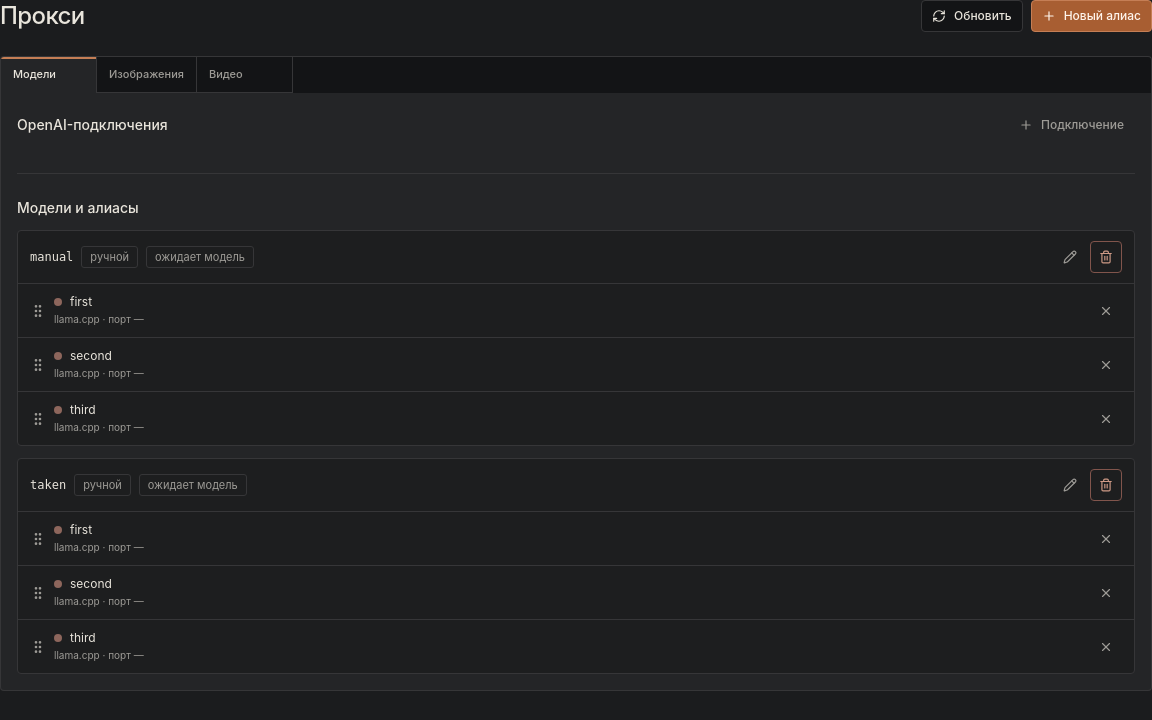
Test: blocks renaming to an existing manual alias
Click the button named "Изменить алиас manual". click: click(1070, 257)
box: [1054,241,1086,273]
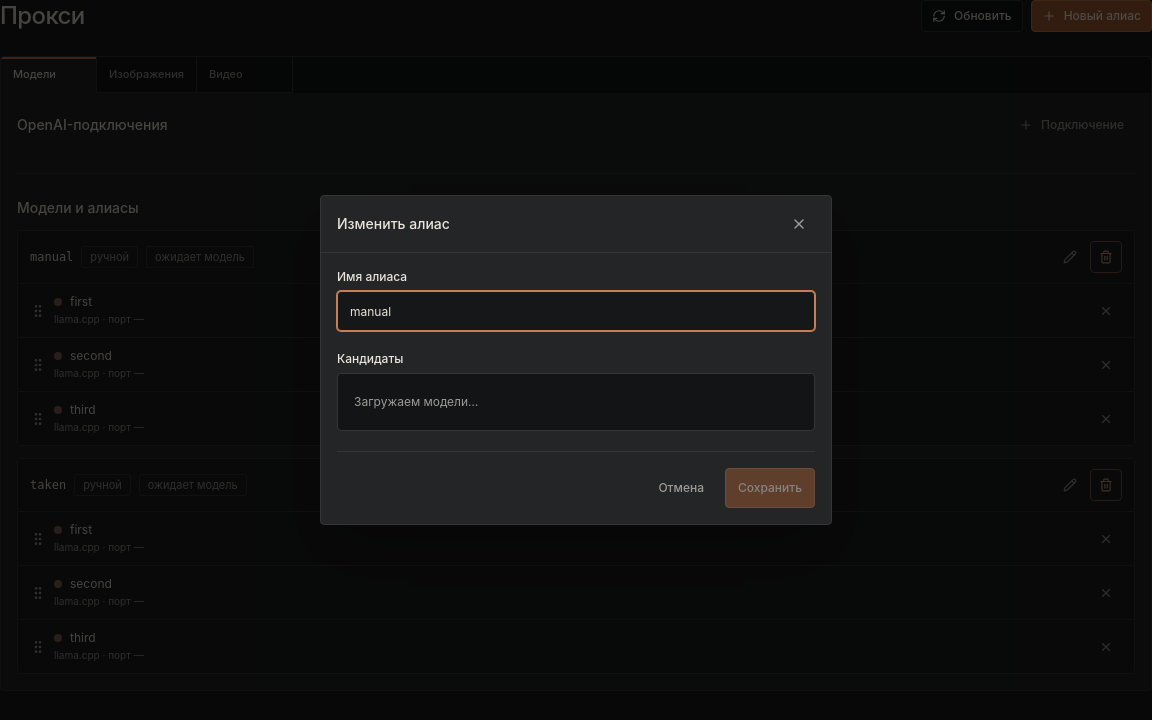
Replace the text in the field labelled "Имя алиаса" with "taken". click: (576, 311)
box: [337,291,815,331]
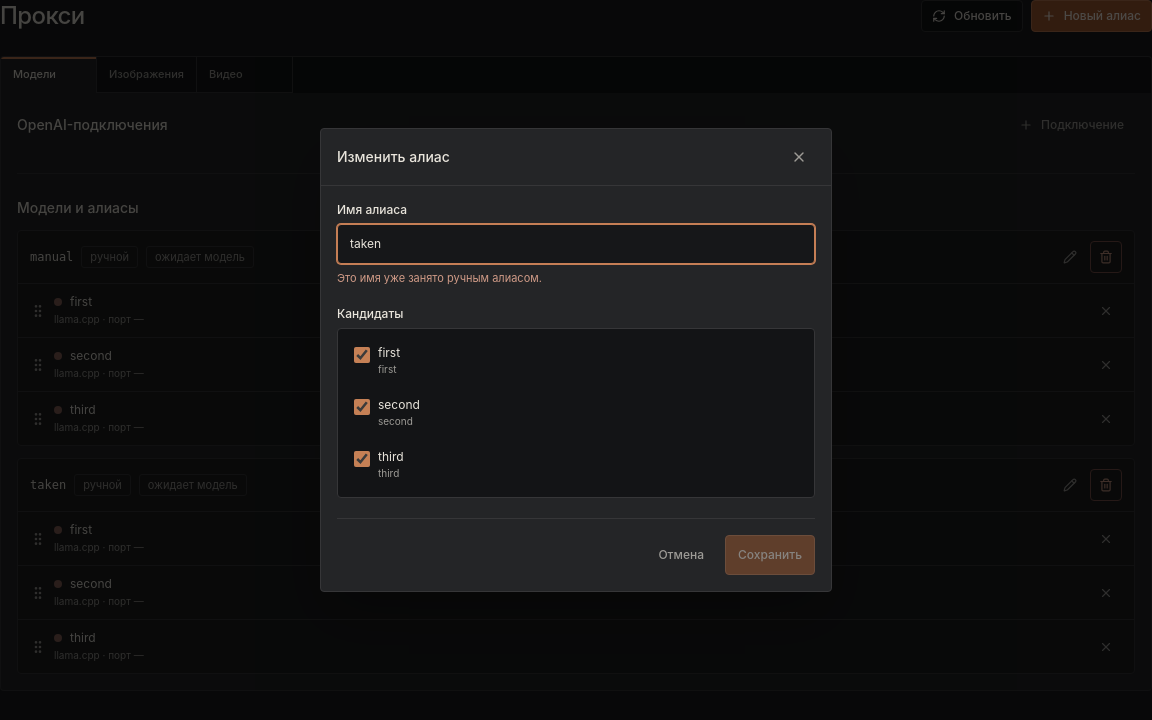
Now the button "Сохранить" is disabled, box [725,535,815,575]
Now the text "Это имя уже занято ручным алиасом." is shown, box [337,271,542,285]
